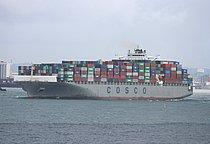Ship: (11, 45, 196, 103)
